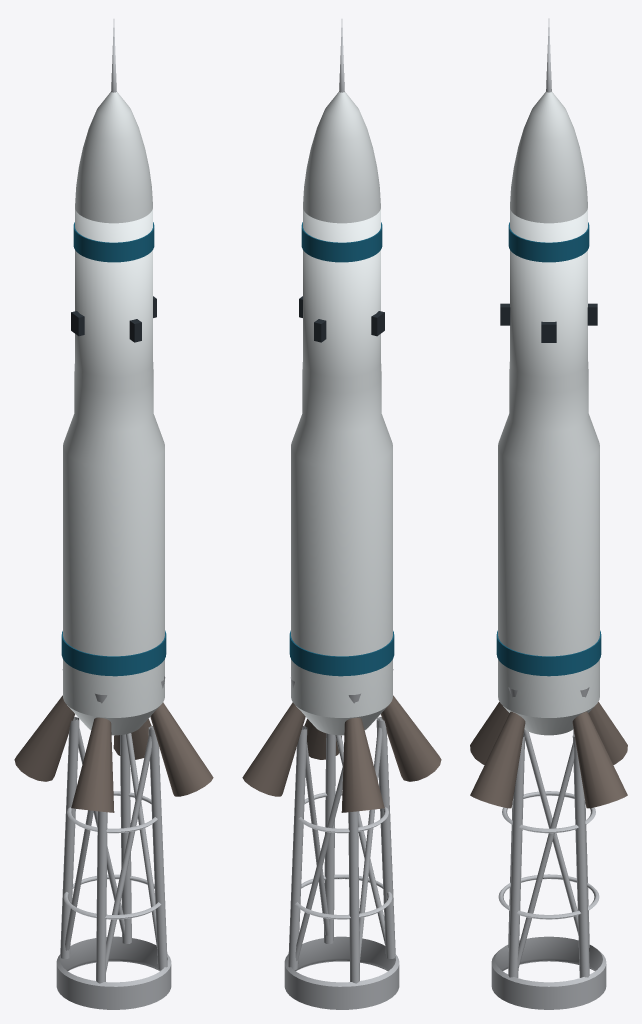
The model's file is les_escape_tower.glb.
3 views of the same model, side by side, from view 1: azimuth 30°, elevation 25°; view 2: azimuth 150°, elevation 25°; view 3: azimuth 270°, elevation 25° (orthographic).
Visible parts, largest first — view 1: les_escape_tower_mesh; view 2: les_escape_tower_mesh; view 3: les_escape_tower_mesh.
Part boxes in pixels (x1,y1,x2,y2): les_escape_tower_mesh: (14,19,213,1009); les_escape_tower_mesh: (242,19,441,1009); les_escape_tower_mesh: (470,18,627,1009).
Size of the model in its own units: 1.86 by 12.6 by 1.86.
